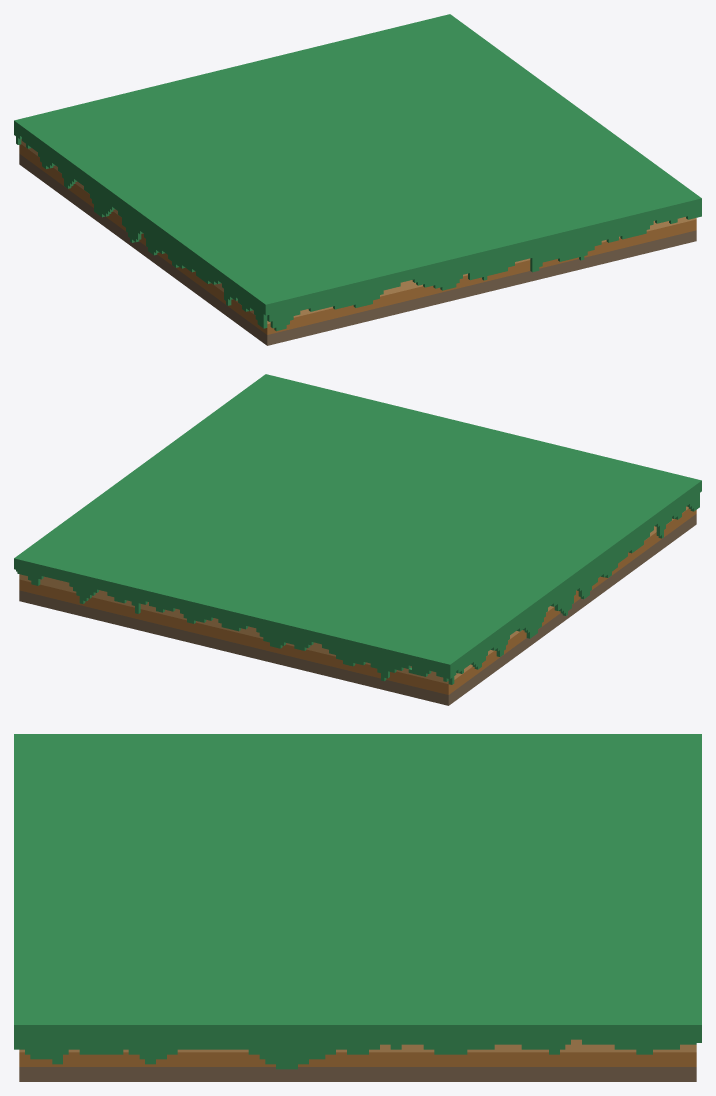
Rendered from map2.obj.
The picture shows the model from 3 angles, top to bottom: view 1: azimuth 30°, elevation 25°; view 2: azimuth 150°, elevation 25°; view 3: azimuth 270°, elevation 25°; orthographic projection. The views are drawn at different scales.
Size of the model in its own units: 12.6 by 1.2 by 12.6.
1 material, 1 textured.
